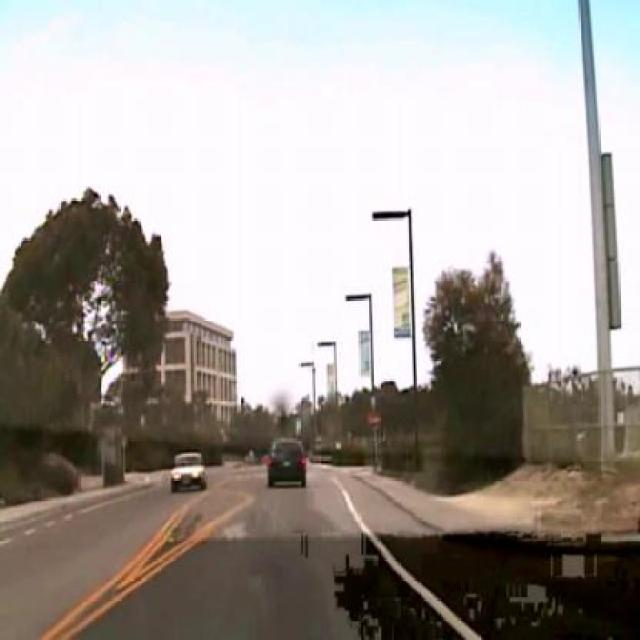stop: (366, 409, 380, 429)
